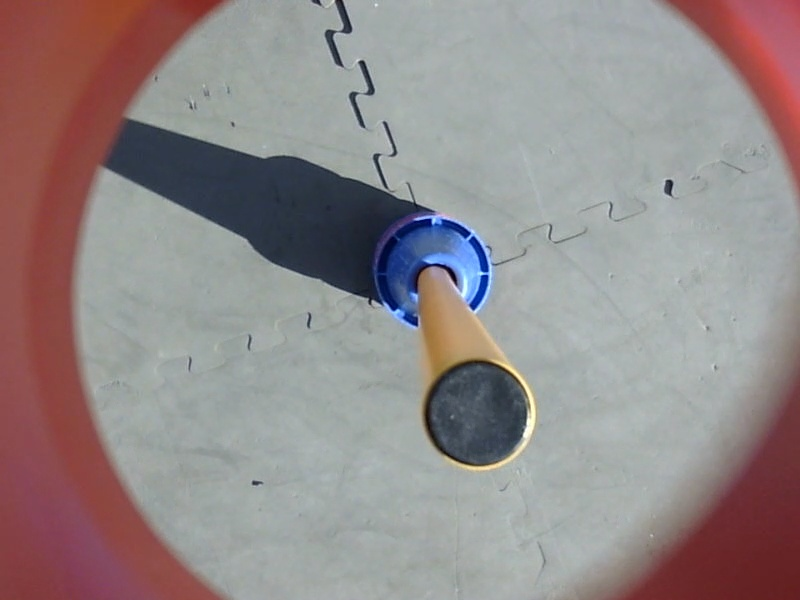tip: (416, 353, 543, 478)
